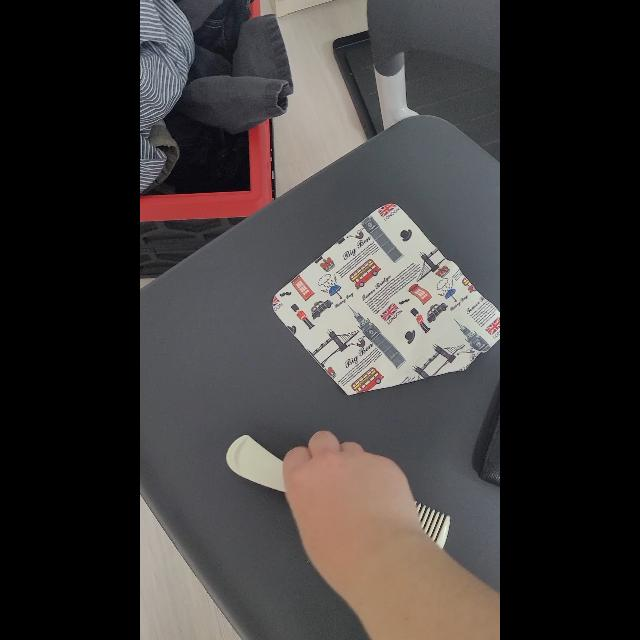COMB: (226, 435, 450, 549)
Glasses cleaning cloth: (272, 204, 500, 394)
